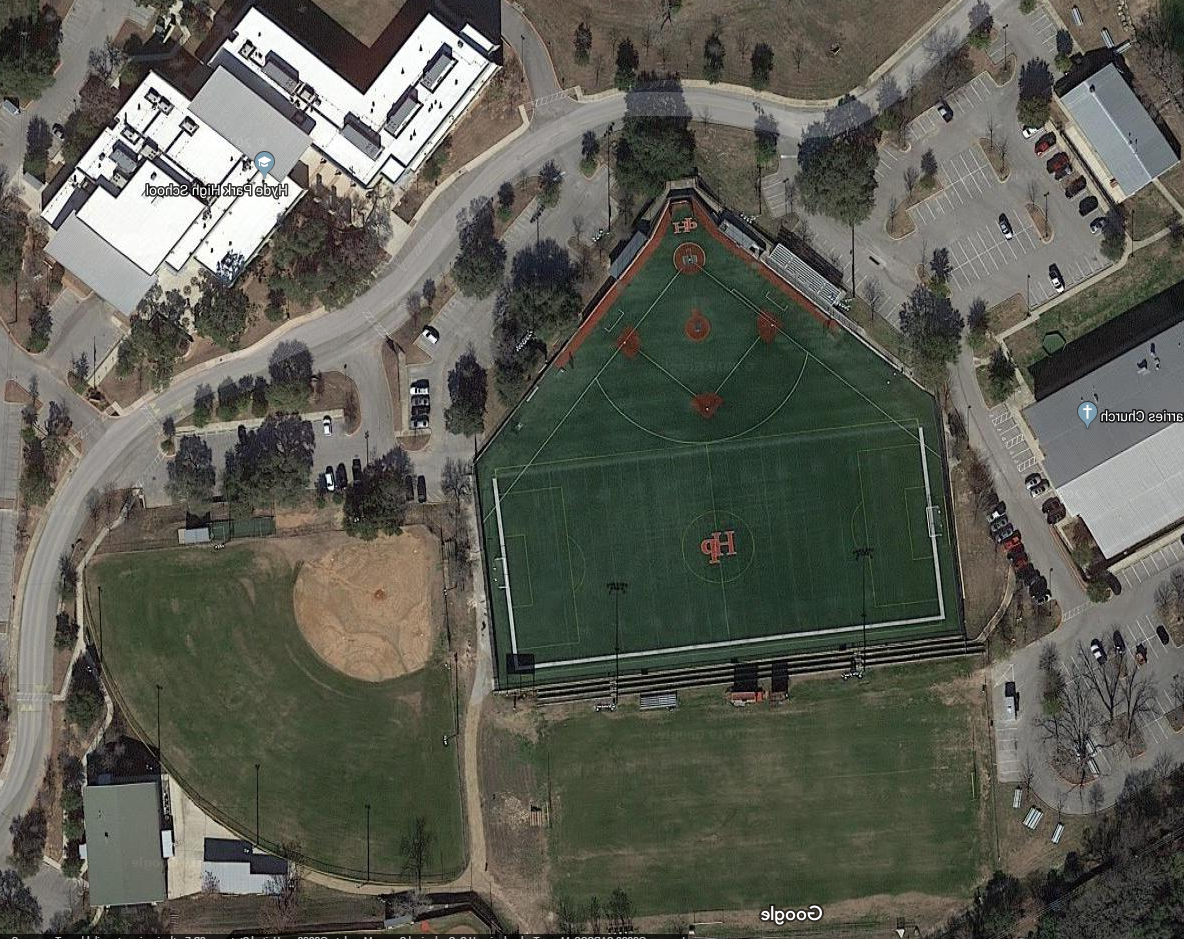baseball: (60, 532, 492, 888)
soccer: (483, 417, 928, 648), (536, 717, 1032, 898), (494, 474, 998, 637)
